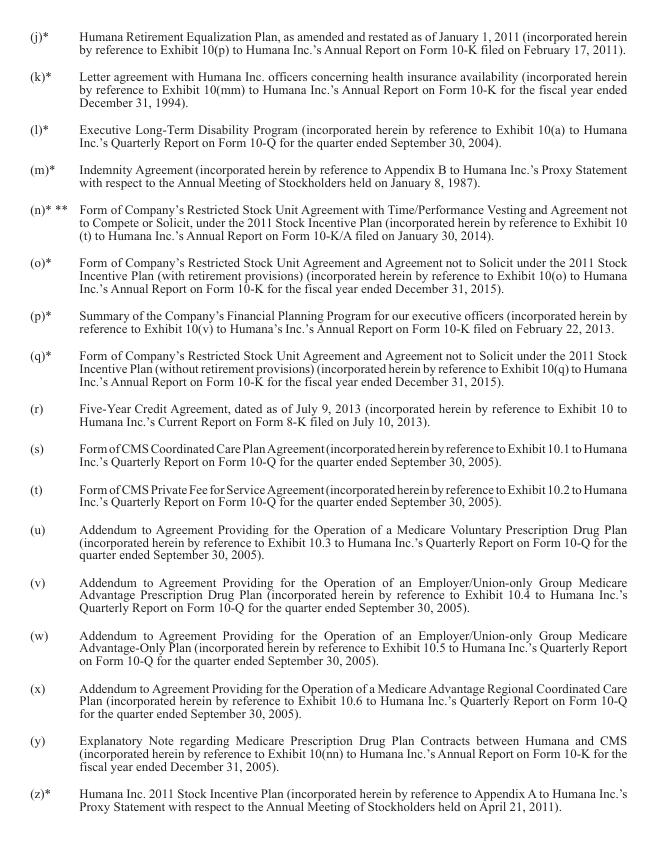table: (29, 28, 626, 813)
table column: (72, 28, 626, 813), (29, 28, 72, 813)
table row: (29, 62, 626, 115), (29, 195, 626, 248), (29, 248, 626, 301), (29, 341, 626, 394), (29, 514, 626, 567), (29, 567, 626, 620), (29, 620, 626, 673), (29, 673, 626, 726), (29, 726, 626, 779), (29, 115, 626, 155), (29, 155, 626, 195), (29, 301, 626, 341), (29, 394, 626, 434), (29, 434, 626, 474), (29, 474, 626, 514), (29, 28, 626, 62), (29, 779, 626, 813)
